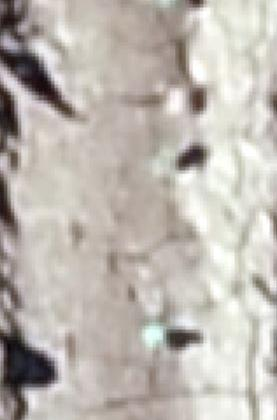cotton: (145, 324, 165, 345), (158, 150, 176, 171)
